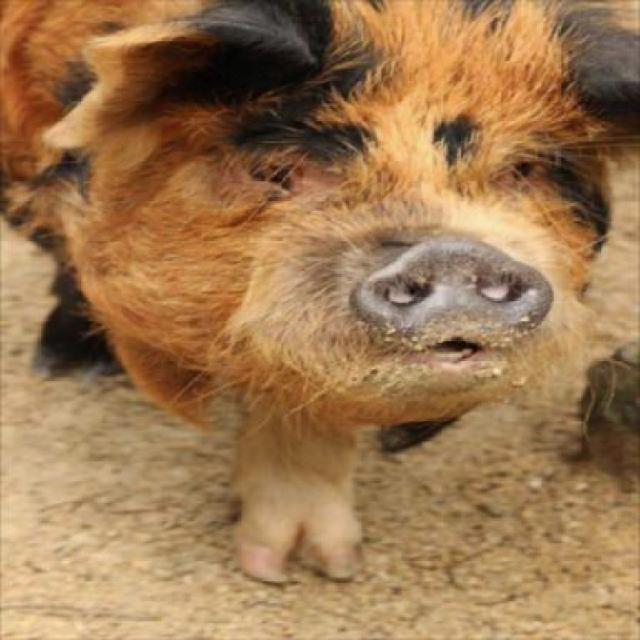Boar: (1, 0, 640, 584), (574, 337, 640, 458)
